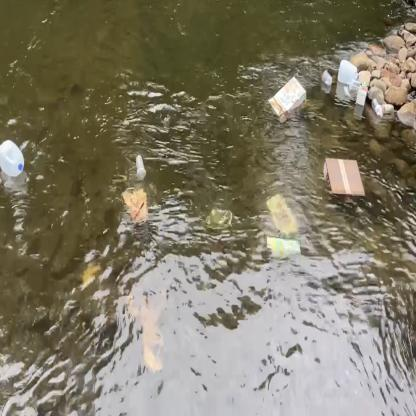trash: (320, 154, 368, 206), (266, 73, 310, 125), (263, 188, 301, 238), (0, 136, 28, 183), (262, 234, 303, 263), (118, 186, 150, 223), (334, 55, 360, 87), (206, 208, 235, 235), (354, 78, 372, 110), (369, 96, 385, 124), (134, 152, 148, 180), (318, 66, 334, 87), (380, 102, 396, 118), (346, 78, 362, 90)
